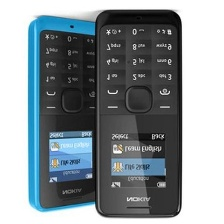phone: (92, 7, 184, 221), (25, 11, 119, 214)
